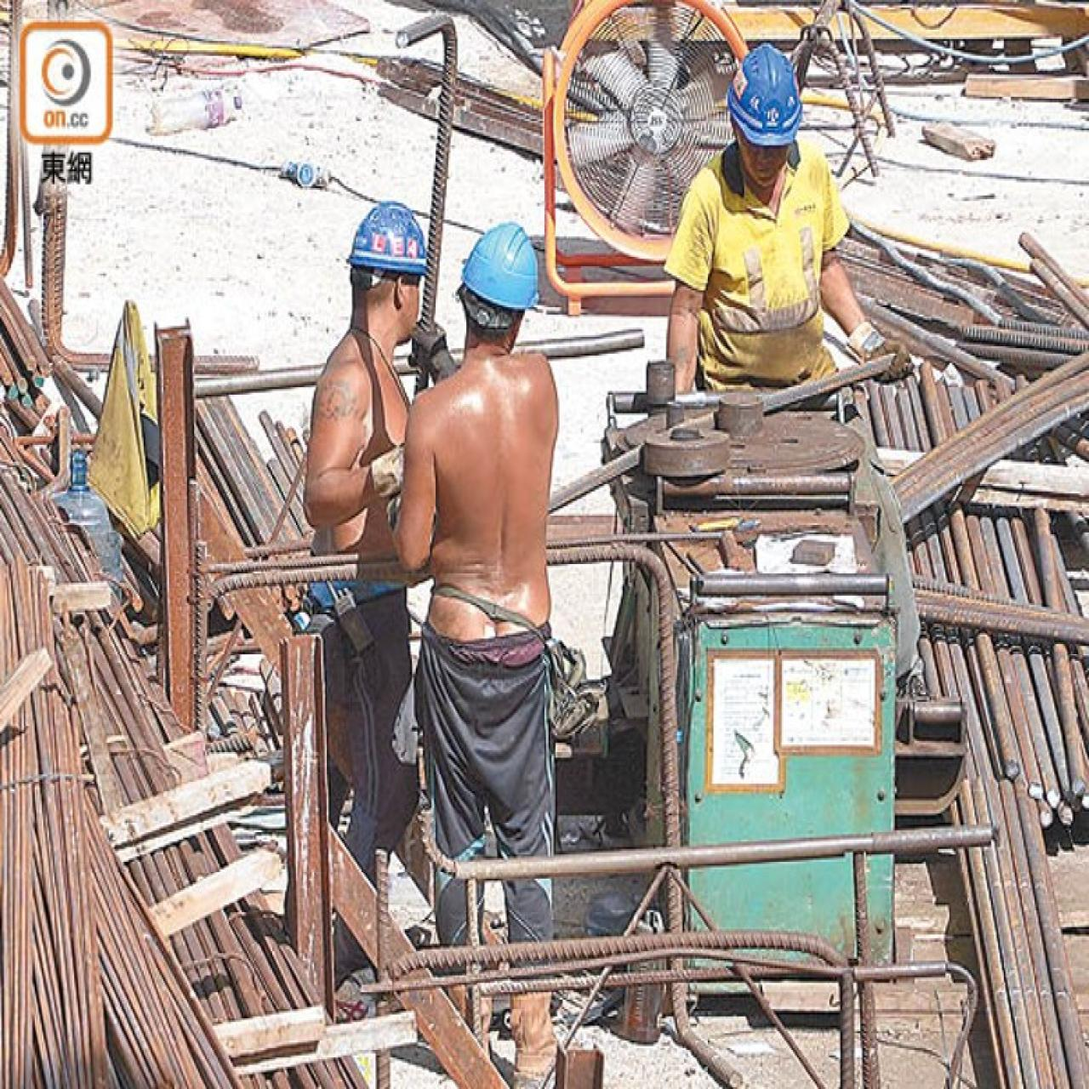NO_Safety_Vest: (420, 360, 554, 650), (681, 164, 846, 396), (299, 325, 410, 607)
Person: (392, 211, 629, 1089), (286, 184, 442, 861), (656, 36, 879, 429)
